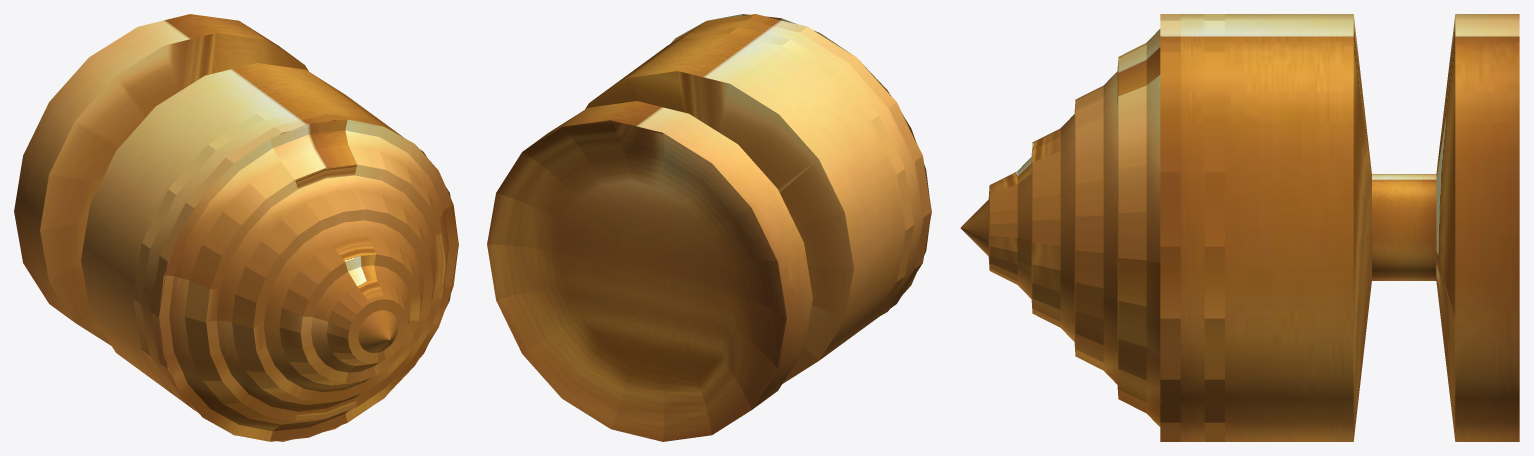
Rendered from TungstenObject.DAE.
3 renders of one model, left to right at view 1: azimuth 30°, elevation 25°; view 2: azimuth 150°, elevation 25°; view 3: azimuth 270°, elevation 25°, orthographic. The views are drawn at different scales.
Parts seen in each view (by area): view 1: Cylinder001; view 2: Cylinder001; view 3: Cylinder001.
Part boxes in pixels (<box>): Cylinder001: <box>14,14,458,441</box>; Cylinder001: <box>487,14,931,441</box>; Cylinder001: <box>960,14,1519,441</box>.
Bounding box in the file's own units: 7.88 × 10.26 × 7.87.
1 material, 1 textured.
